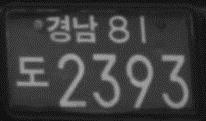1: (136, 16, 149, 42)
2: (56, 52, 87, 108)
3: (160, 53, 189, 109), (92, 53, 120, 108)
8: (108, 15, 130, 43)
9: (125, 53, 154, 108)
경남_O: (44, 14, 99, 43)
도: (14, 55, 49, 88)
